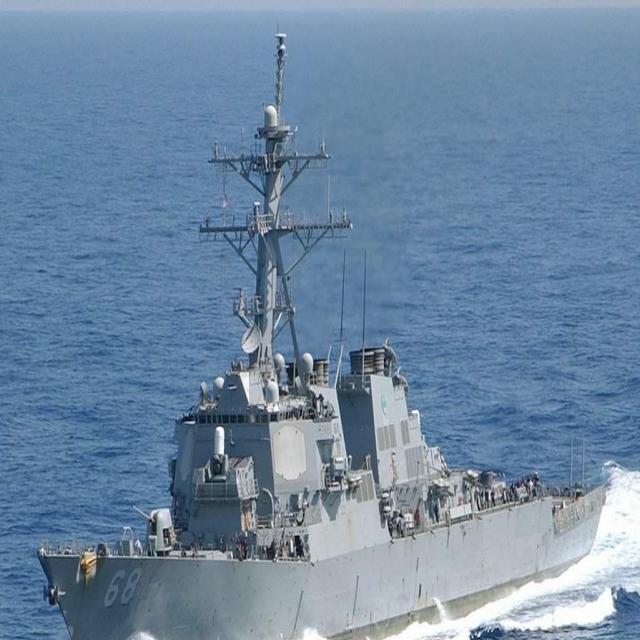navalvessels: (41, 30, 625, 629)
